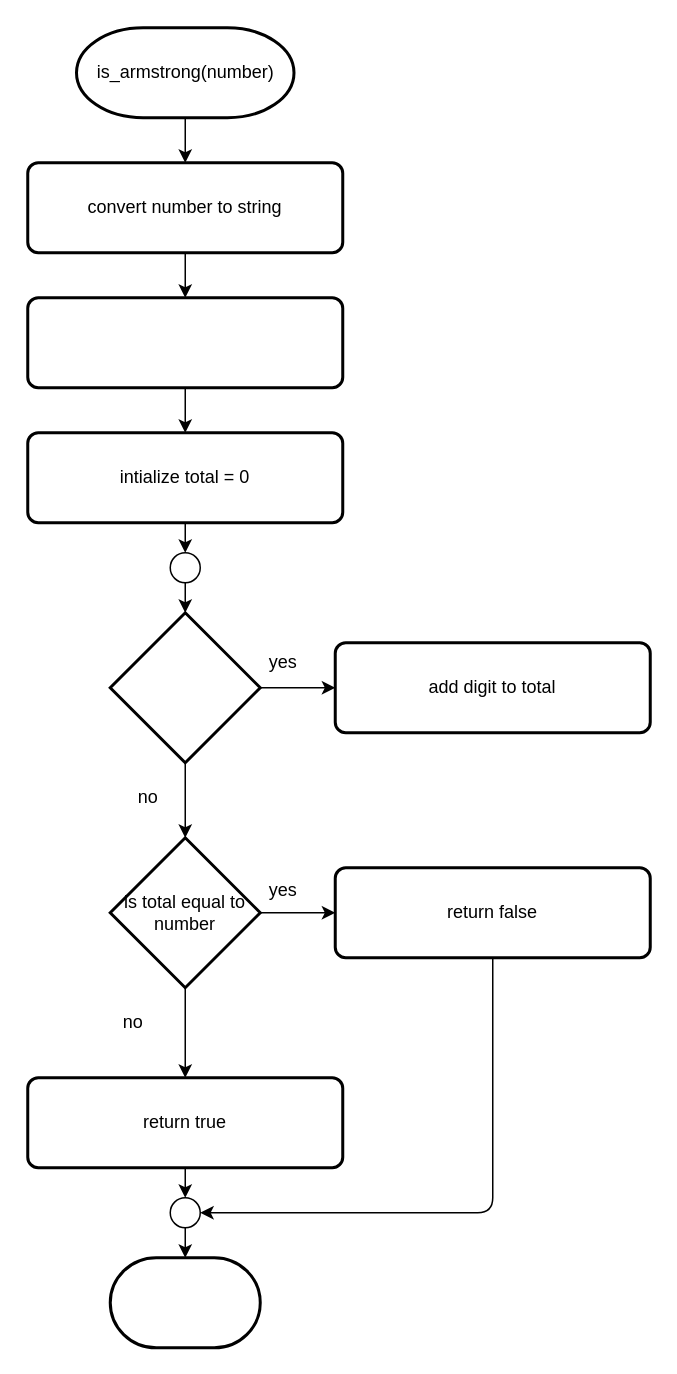
Image size: 677x1374. Some labels were removed from this diagram. Here are the shapes that lost their labels. From the top down, the centre of each, then its label:
At point 185,342: "get number of digits".
At point 184,687: "for each digit im=n string".
At point 184,1302: "stop".
